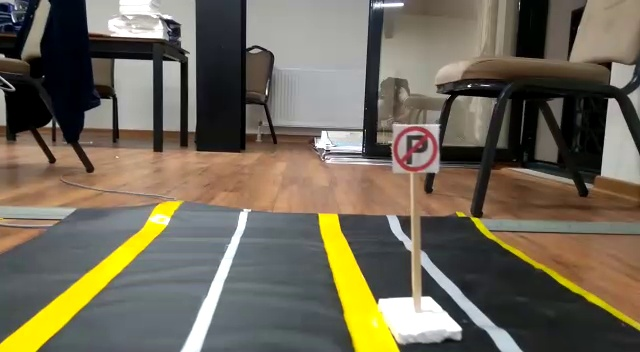park_yapilmaz: (396, 124, 439, 175)
